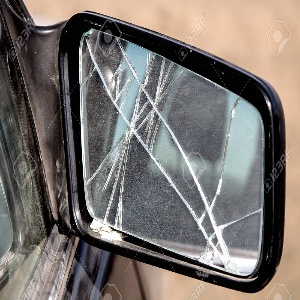side_mirror: (55, 16, 290, 284)
